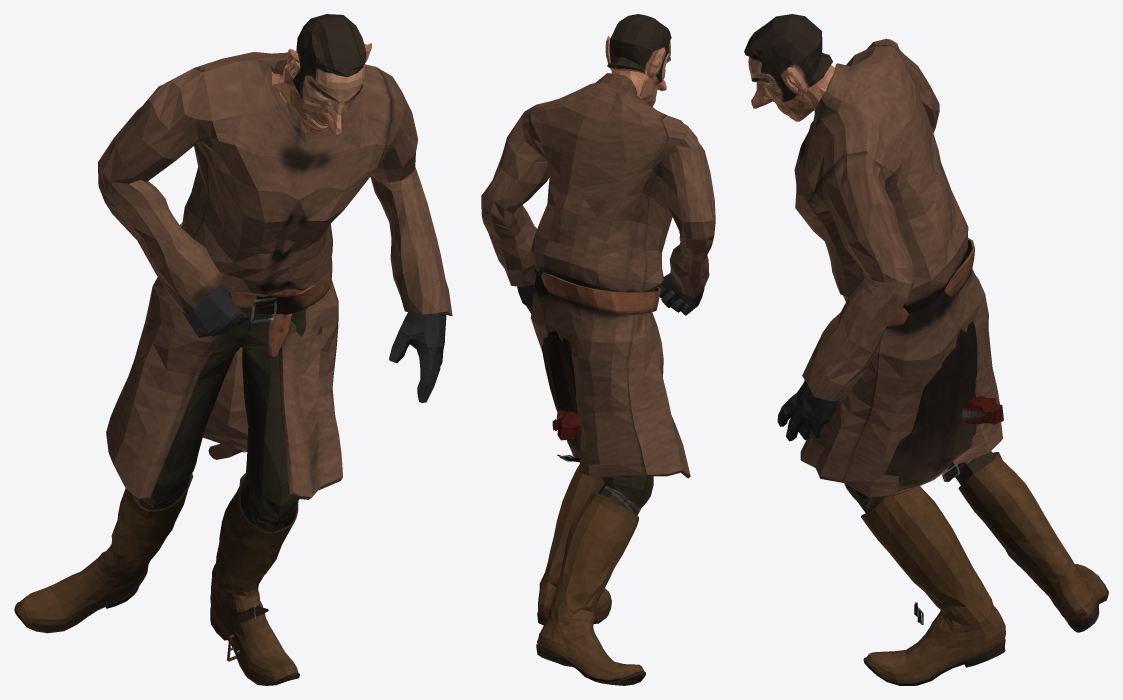
Rendered from sniper-inj-walk_joined_000024.obj.
3 views of the same model, side by side, from view 1: azimuth 30°, elevation 25°; view 2: azimuth 150°, elevation 25°; view 3: azimuth 270°, elevation 25° (orthographic). The views are drawn at different scales.
Parts seen in each view (by area): view 1: Shoes; view 2: Shoes; view 3: Shoes.
Boxes of the visible parts, x1,y1,x2,y2 form: Shoes: (14,14,452,685); Shoes: (481,14,715,685); Shoes: (744,14,1108,685).
Size of the model in its own units: 1.08 by 2.41 by 1.21.
